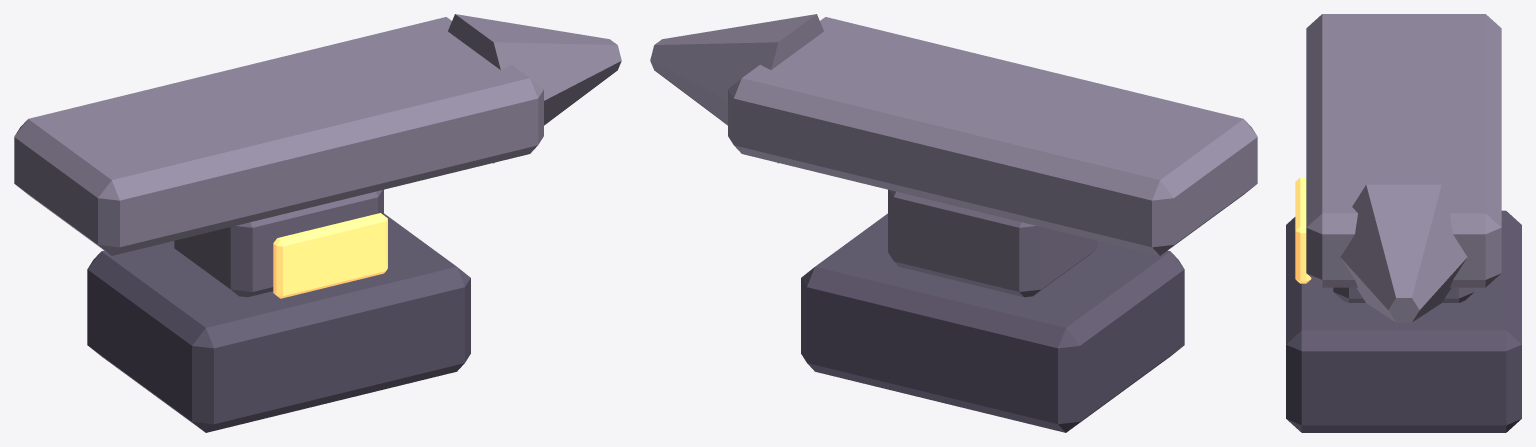
File: ember_forge_anvil.glb
3 views of the same model, side by side, from view 1: azimuth 30°, elevation 25°; view 2: azimuth 150°, elevation 25°; view 3: azimuth 270°, elevation 25° (orthographic). The views are drawn at different scales.
Visible parts, largest first — view 1: ember_forge_anvil.001; view 2: ember_forge_anvil.001; view 3: ember_forge_anvil.001.
Part boxes in pixels (x1,y1,x2,y2): ember_forge_anvil.001: [14, 14, 621, 432]; ember_forge_anvil.001: [650, 14, 1257, 432]; ember_forge_anvil.001: [1286, 14, 1521, 432].
Size of the model in its own units: 2 by 0.9878 by 0.75.
